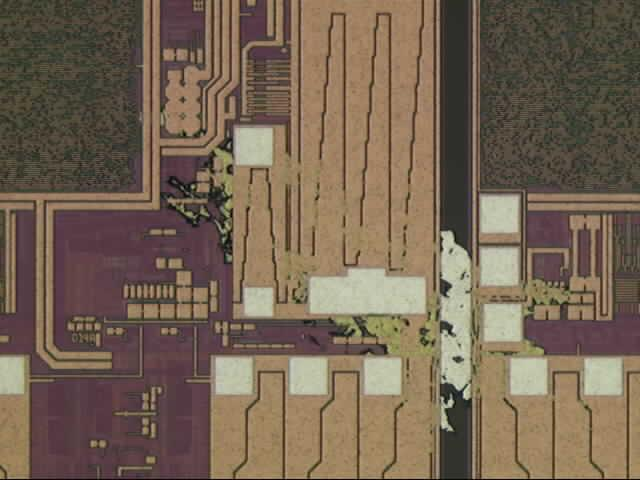BLOCK ETCH: (158, 116, 572, 435)
